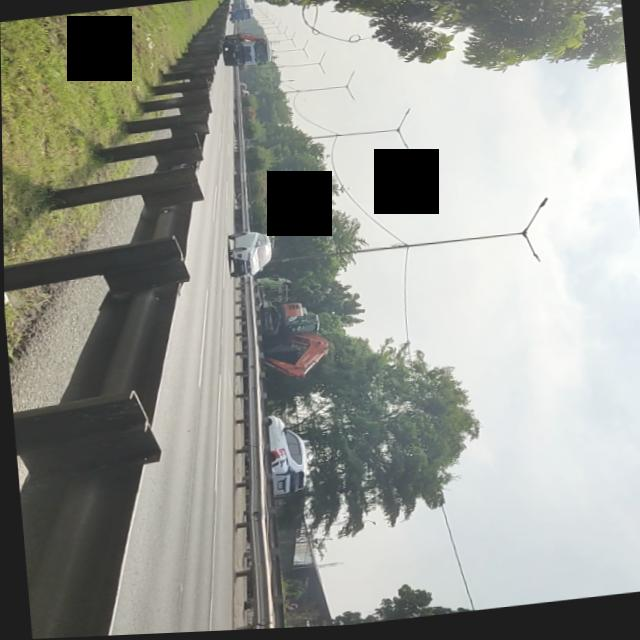Golongan I: (221, 227, 275, 282)
